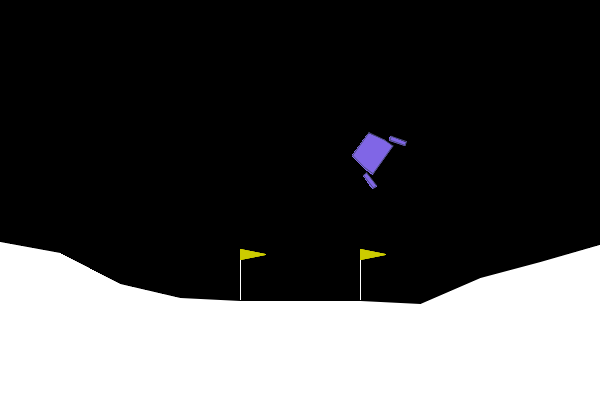lander: (341, 119, 409, 191)
